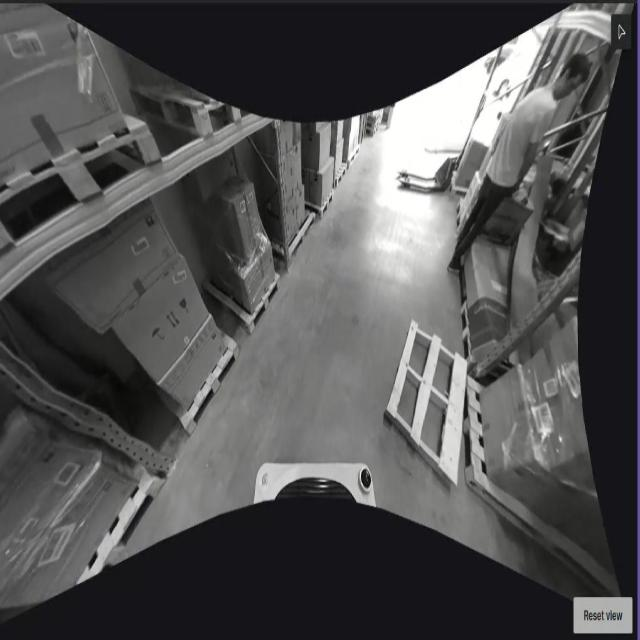Pallets-and-forklifts: (2, 115, 164, 256), (386, 323, 472, 497), (80, 462, 170, 582), (177, 335, 242, 443), (246, 271, 283, 341)
forlift: (401, 156, 457, 195)
